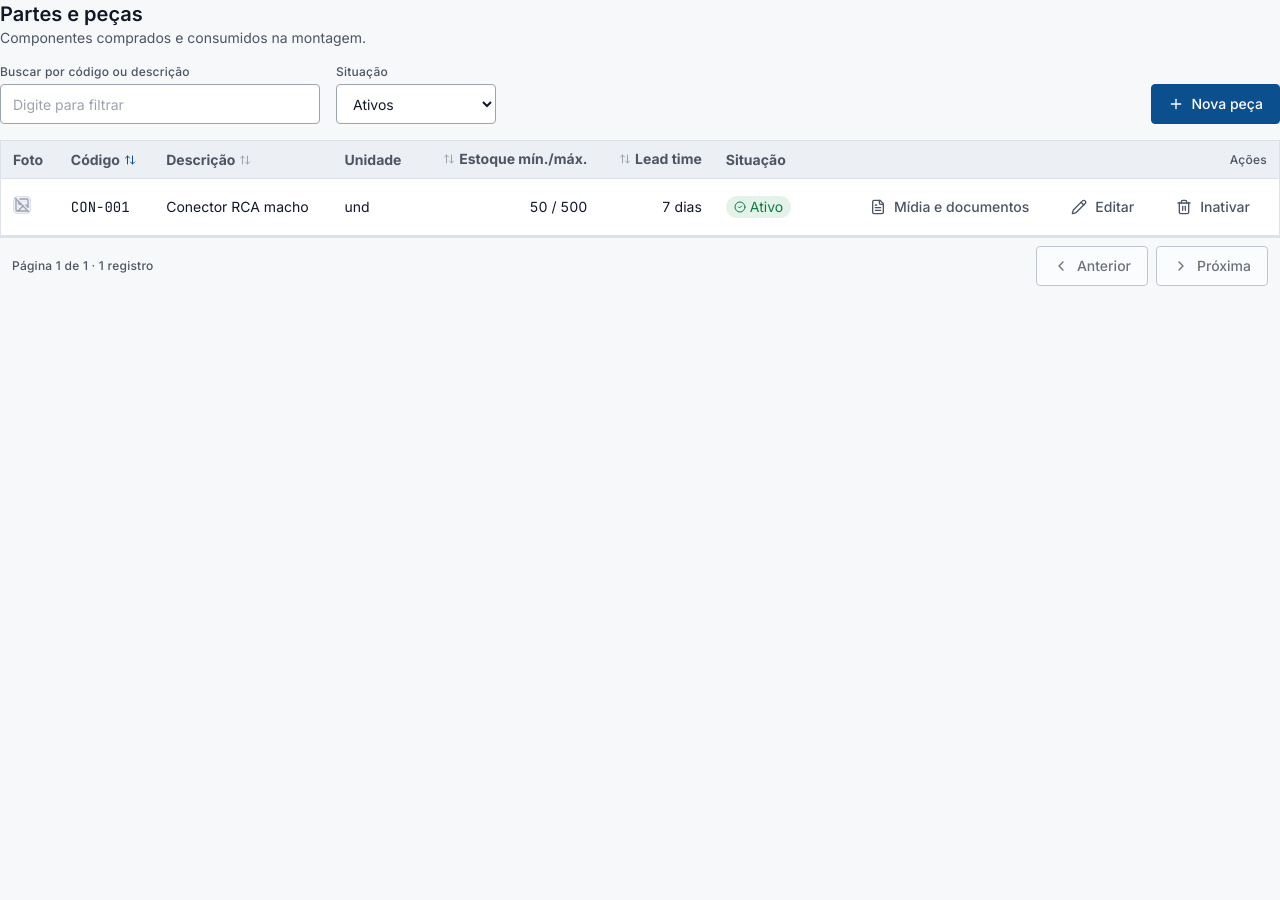
Test: PartesPecas › editar abre o modal preenchido
This screenshot has width=1280, height=900.
Expected: the text "50 / 500" is shown, [419, 178, 599, 236]
Click the button with aria-label "Editar CON-001" at (1103,207), box [1054, 187, 1151, 227]
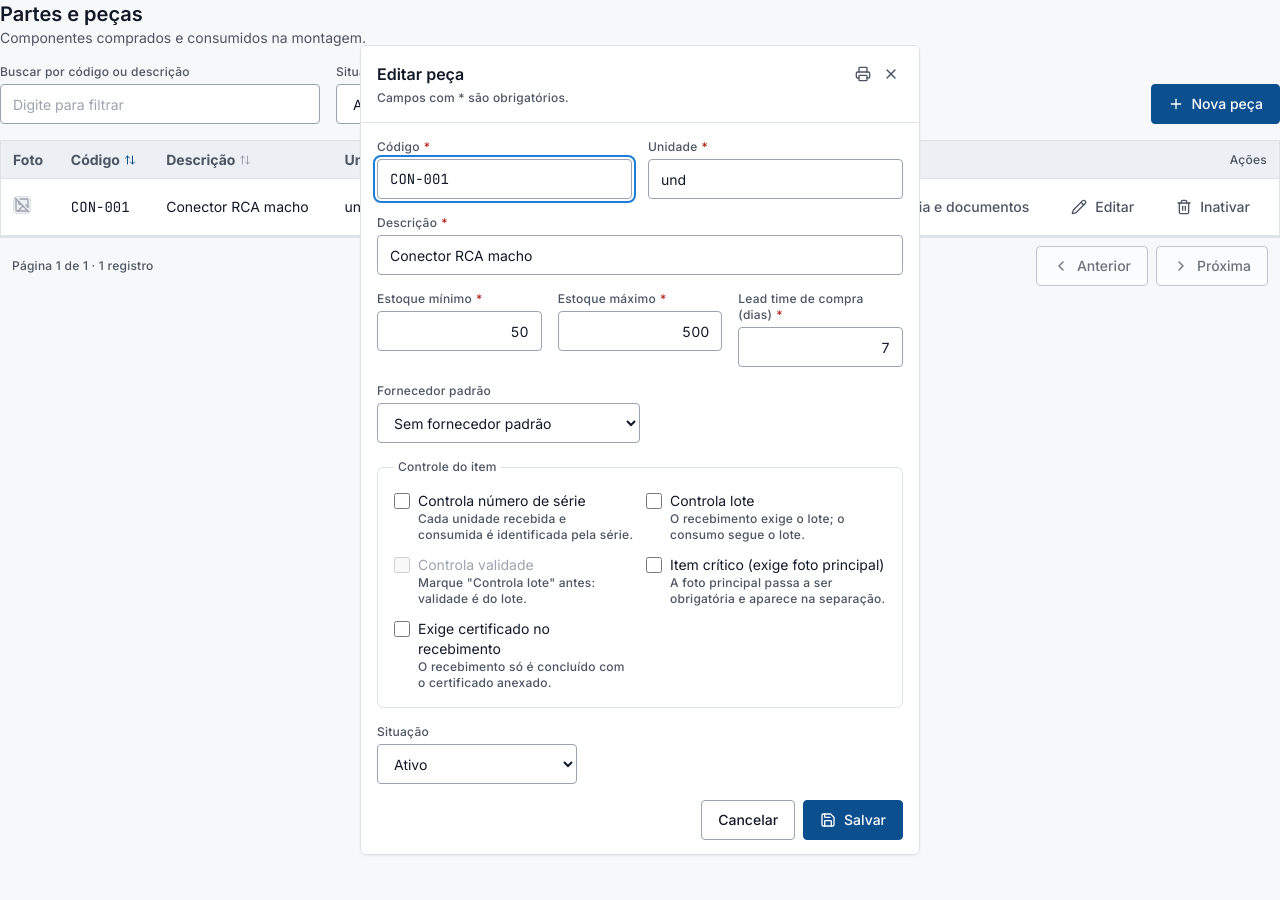
Now the field labelled "Código*" holds "CON-001", box [377, 159, 632, 199]
